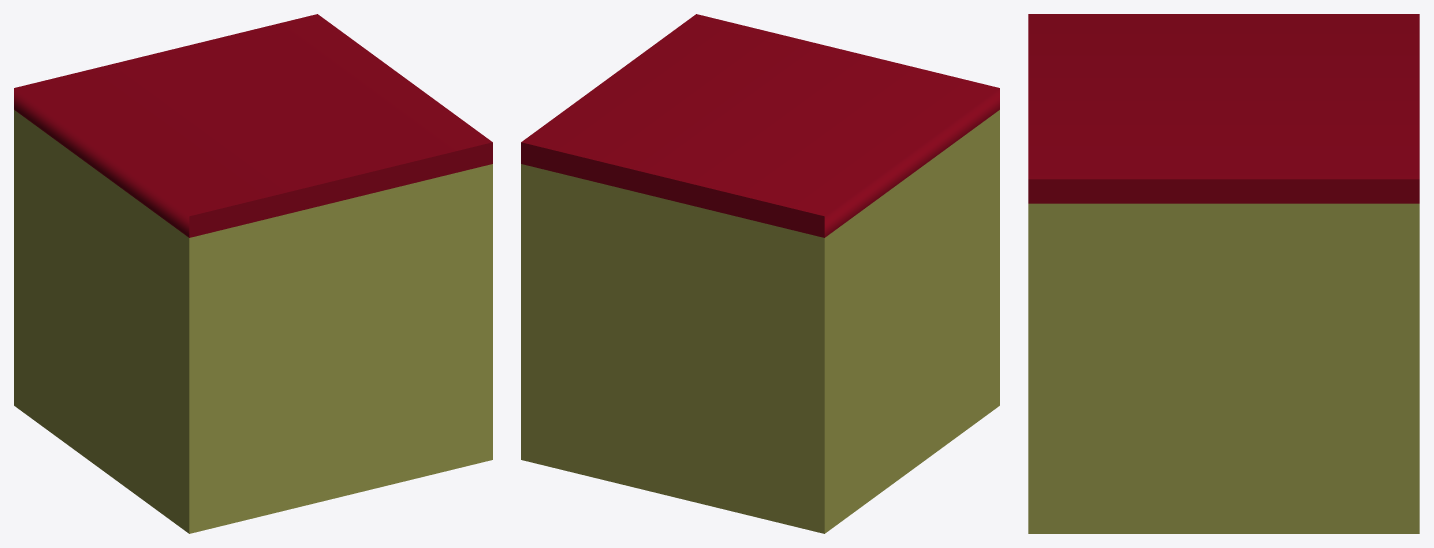
File: NewCornerCounter.fbx
3 renders of one model, left to right at view 1: azimuth 30°, elevation 25°; view 2: azimuth 150°, elevation 25°; view 3: azimuth 270°, elevation 25°, orthographic. The views are drawn at different scales.
Visible parts, largest first — view 1: CornerCounter; view 2: CornerCounter; view 3: CornerCounter.
Boxes of the visible parts, x1,y1,x2,y2 form: CornerCounter: (14, 14, 492, 533); CornerCounter: (521, 14, 999, 533); CornerCounter: (1028, 14, 1419, 533).
Size of the model in its own units: 1970 by 1970 by 1970.
